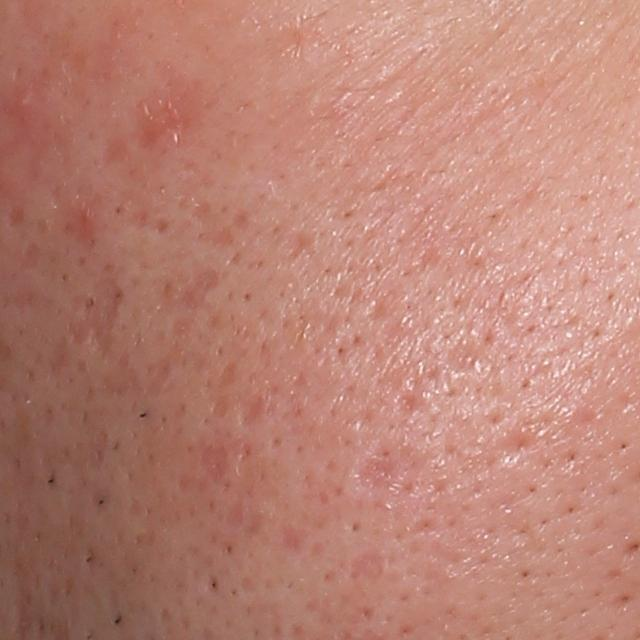atrophic_scar: (69, 270, 120, 359), (187, 198, 252, 246), (355, 443, 404, 492), (491, 427, 544, 470), (178, 265, 218, 310), (144, 351, 174, 402), (203, 445, 230, 487), (284, 233, 316, 261), (351, 553, 384, 578), (241, 391, 265, 425), (209, 394, 232, 423), (213, 361, 236, 389)
